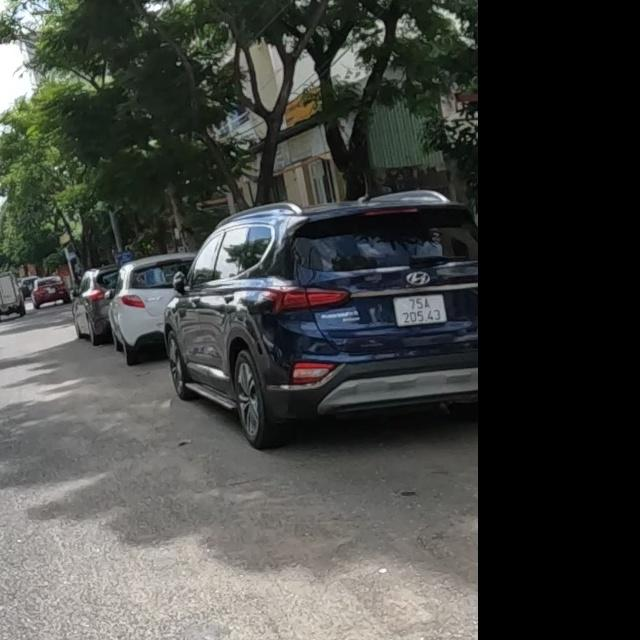license-plate: (392, 293, 447, 328)
